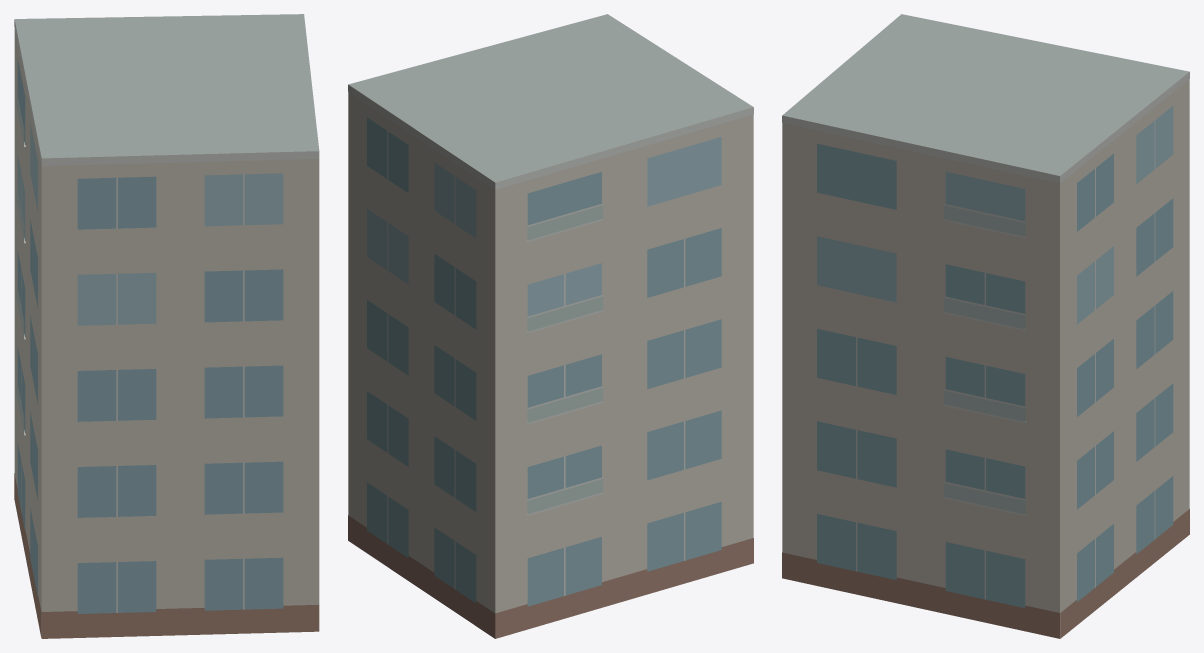
File: survey-upis-33040622.glb
3 views of the same model, side by side, from view 1: azimuth 30°, elevation 25°; view 2: azimuth 150°, elevation 25°; view 3: azimuth 270°, elevation 25° (orthographic). The views are drawn at different scales.
Visible parts, largest first — view 1: survey-upis-33040622.tmp; view 2: survey-upis-33040622.tmp; view 3: survey-upis-33040622.tmp.
Part boxes in pixels (x1,y1,x2,y2): survey-upis-33040622.tmp: [14, 14, 319, 638]; survey-upis-33040622.tmp: [348, 14, 753, 638]; survey-upis-33040622.tmp: [782, 14, 1189, 638].
Size of the model in its own units: 11.57 by 15.4 by 12.3.
